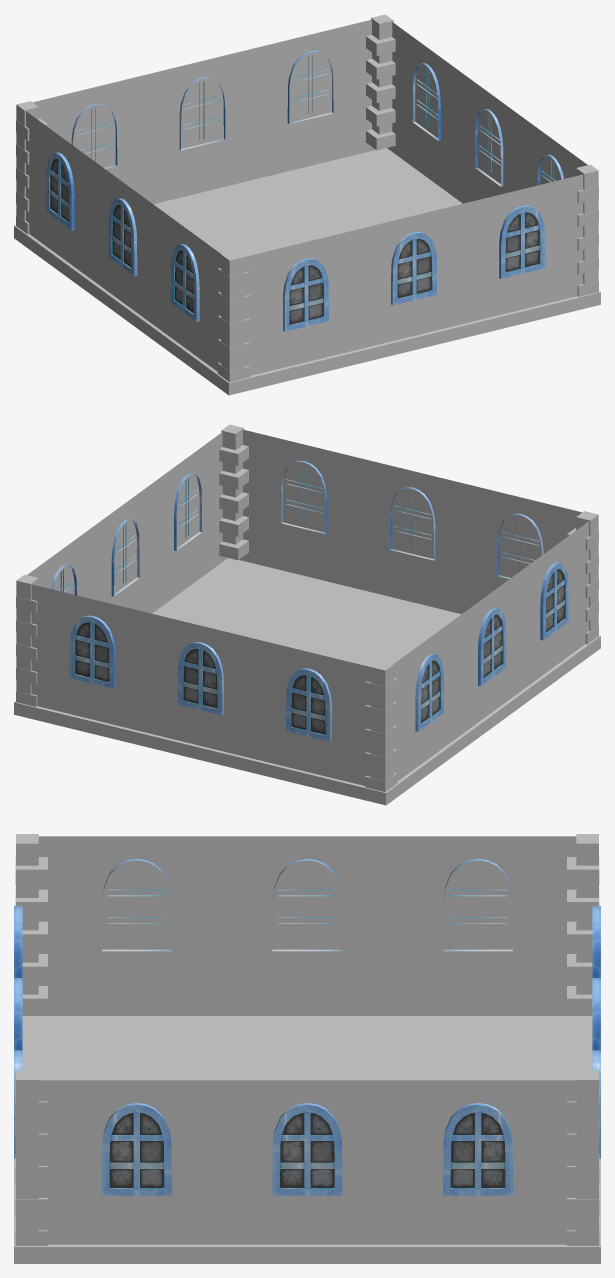
The model's file is sb_obj_outdoor023_IceCastle01_wall03.fbx.
The picture shows the model from 3 angles, top to bottom: view 1: azimuth 30°, elevation 25°; view 2: azimuth 150°, elevation 25°; view 3: azimuth 270°, elevation 25°; orthographic projection. The views are drawn at different scales.
Visible parts, largest first — view 1: sb_obj_outdoor023_IceCastle01_wall03; view 2: sb_obj_outdoor023_IceCastle01_wall03; view 3: sb_obj_outdoor023_IceCastle01_wall03.
Part boxes in pixels (<box>): sb_obj_outdoor023_IceCastle01_wall03: <box>14,14,600,395</box>; sb_obj_outdoor023_IceCastle01_wall03: <box>14,424,600,805</box>; sb_obj_outdoor023_IceCastle01_wall03: <box>14,834,600,1263</box>.
Bounding box in the file's own units: 8.82 × 3.03 × 8.82.
